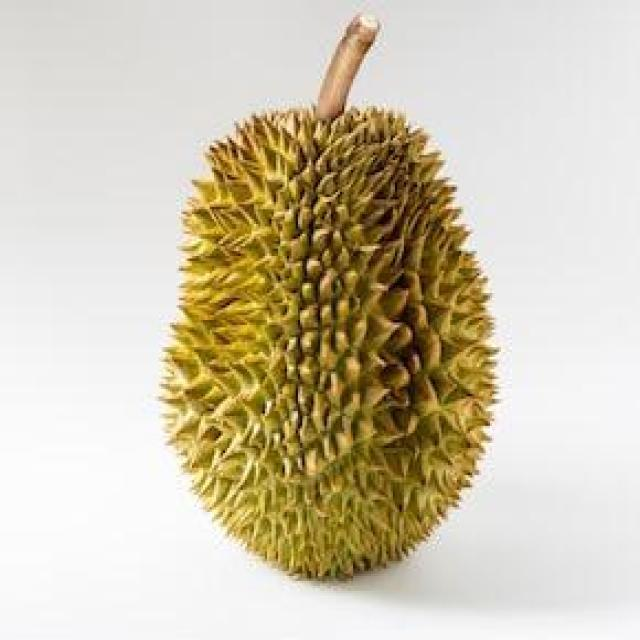mature: (156, 104, 500, 588)
